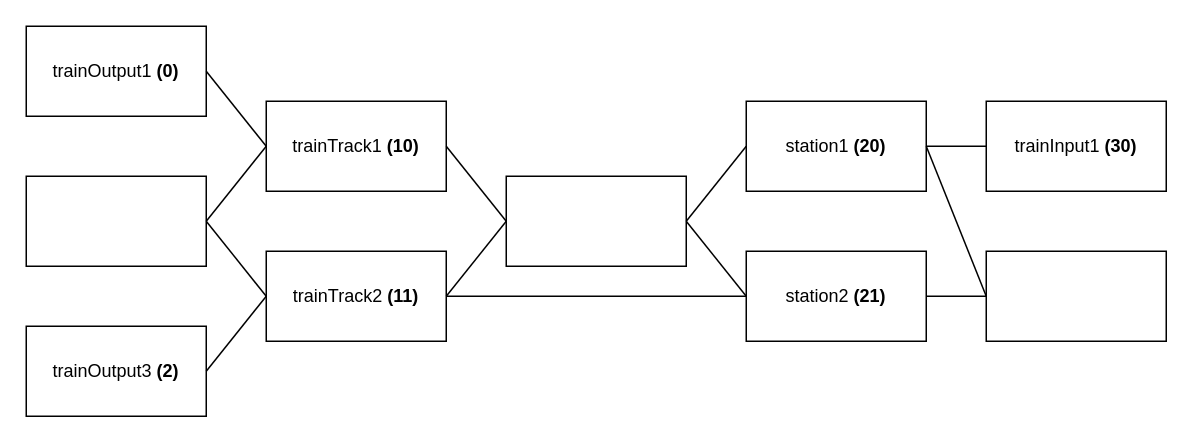
The diagram is 1193 pixels wide and 443 high, and some of its shapes have lost their labels. The shapes that lost their labels are listed below. From the top down, each one's centre as x and y in pixels, then its label:
At (115,220): "trainOutput2 (1)".
At (595,220): "trainTrack3 (12)".
At (1075,295): "trainInput2 (31)".
